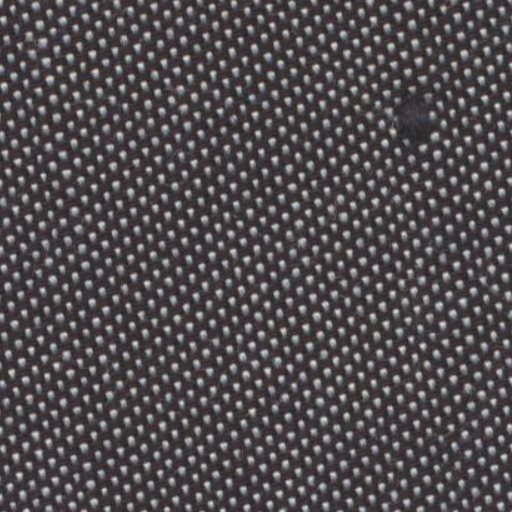MianQiu: (377, 79, 450, 142)
